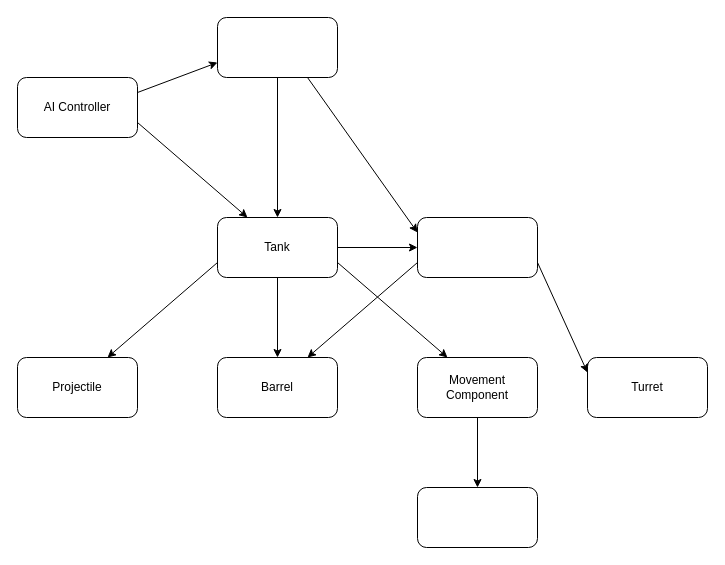
The diagram is 725 pixels wide and 565 high, and some of its shapes have lost their labels. The box of each missing label's shape, as (x1, y1, x2, y2) in pixels:
Aiming Component: (416, 216, 538, 278)
Player Controller: (216, 16, 338, 78)
Track: (416, 486, 538, 548)
